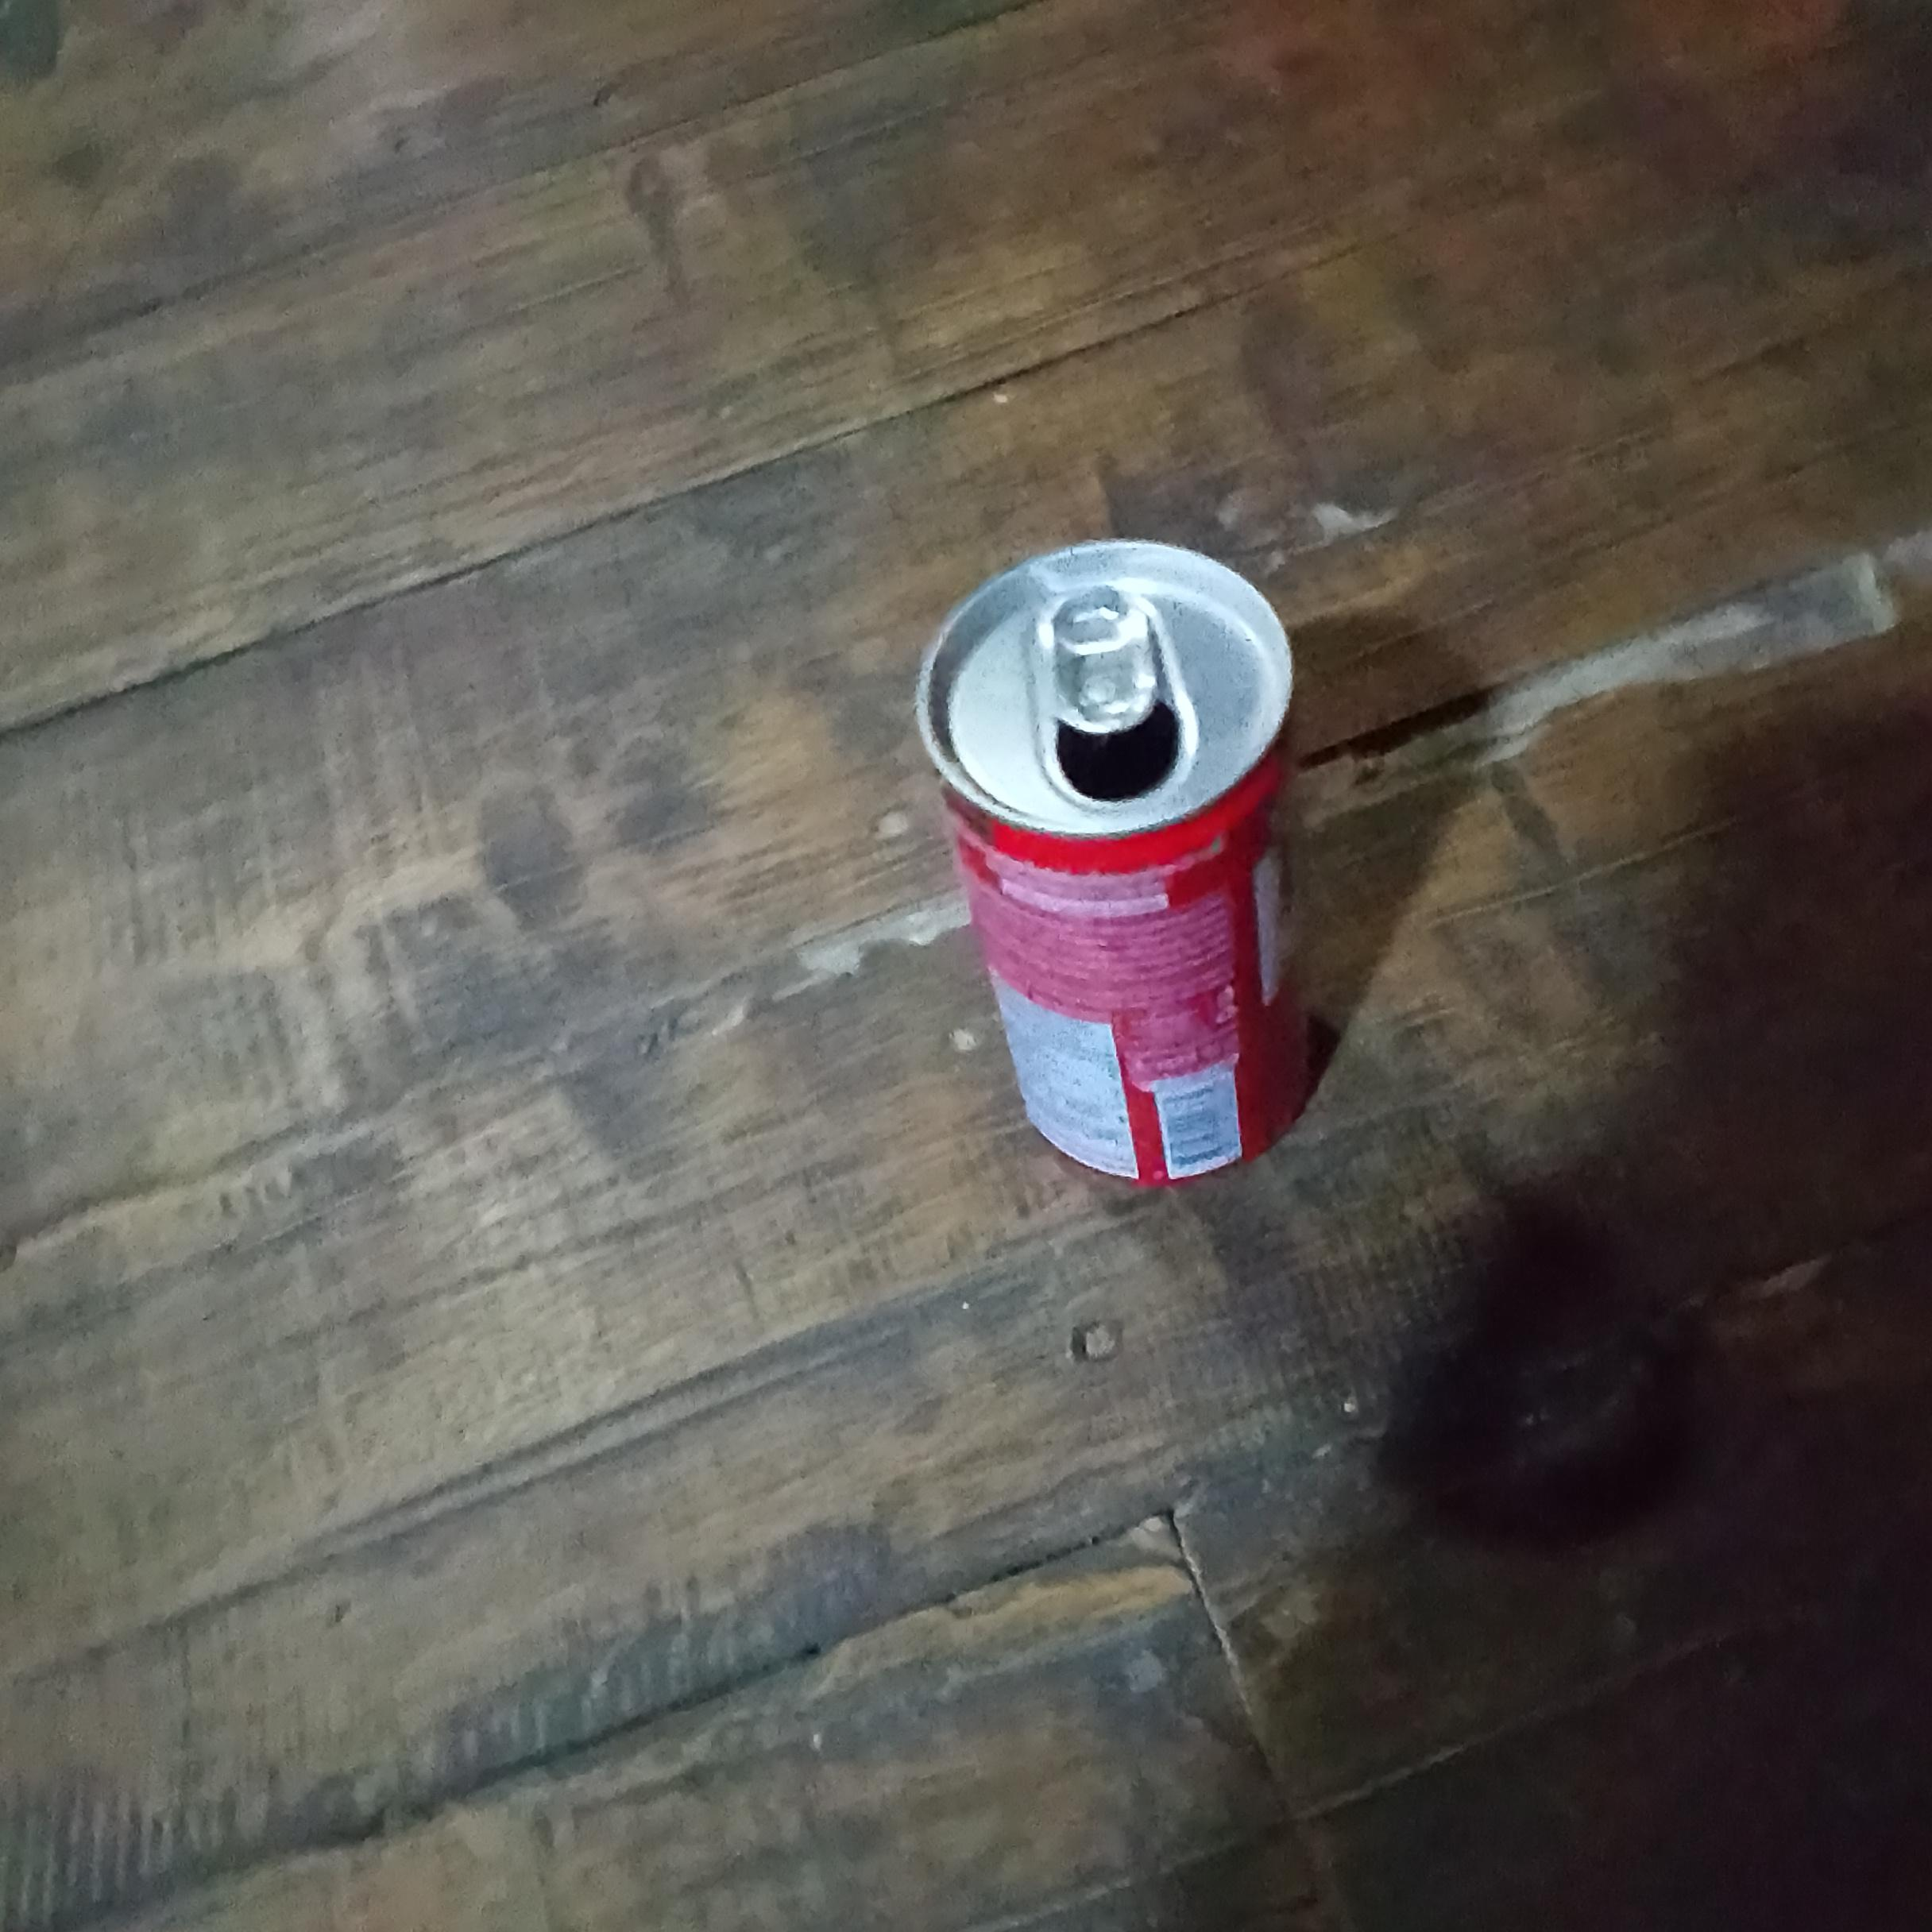can: (920, 543, 1307, 1184)
